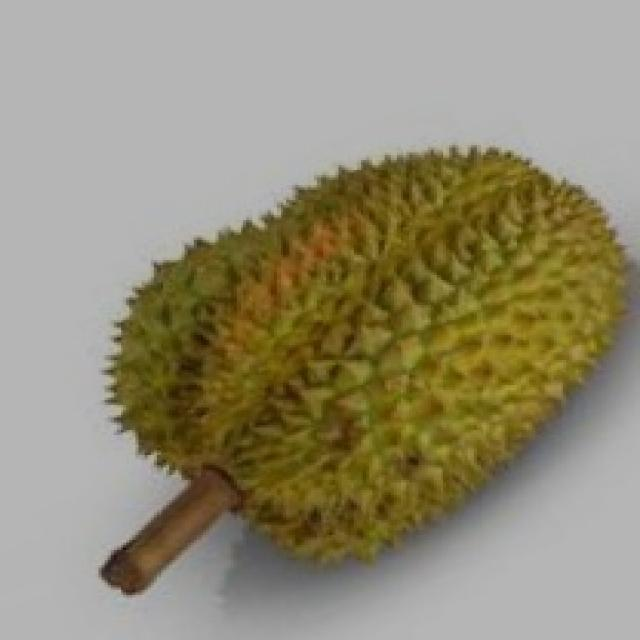fruit: (258, 162, 637, 622), (68, 230, 440, 622)
